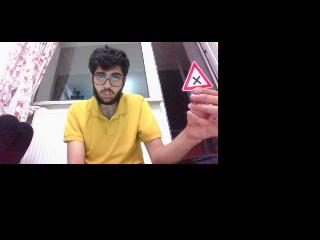intersection: (186, 65, 208, 89)
